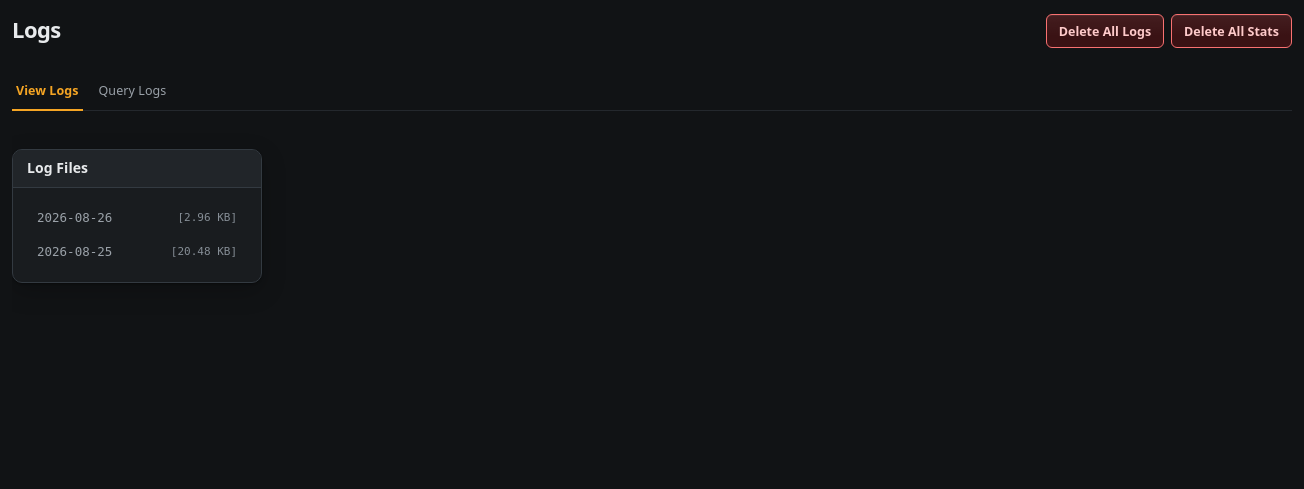
Test: Logs › View Logs › the file is drawn as it came, with its timestamps marked and nothing added
The width and height of the screenshot is (1304, 489).
Click the text "2026-08-26".
click(75, 218)  # box [37,210,112,226]
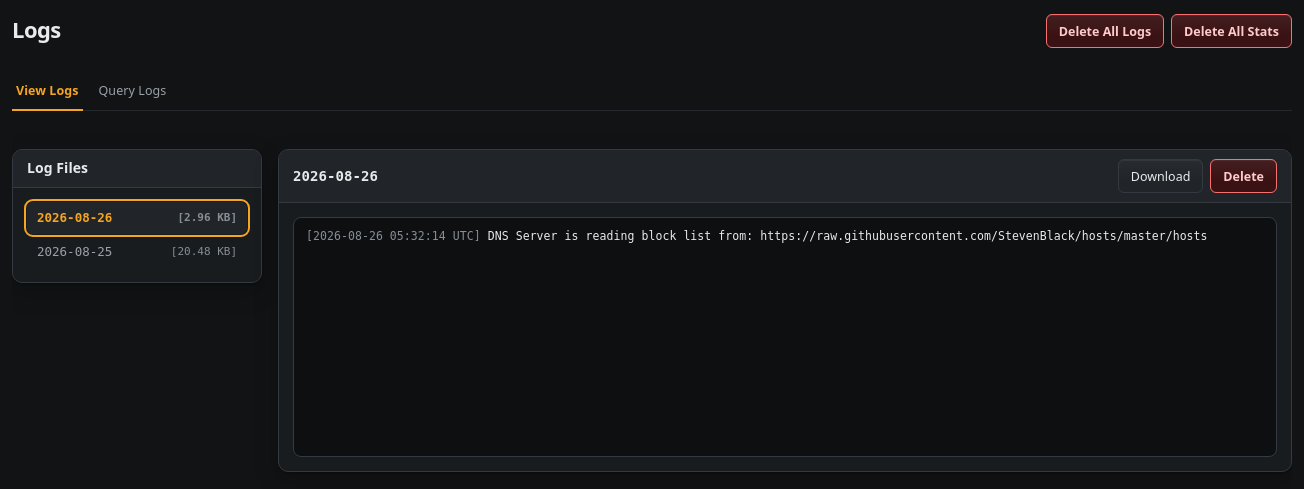
Check: the text "[2026-08-26 05:32:14 UTC]" is shown, box [306,229,488,243]
